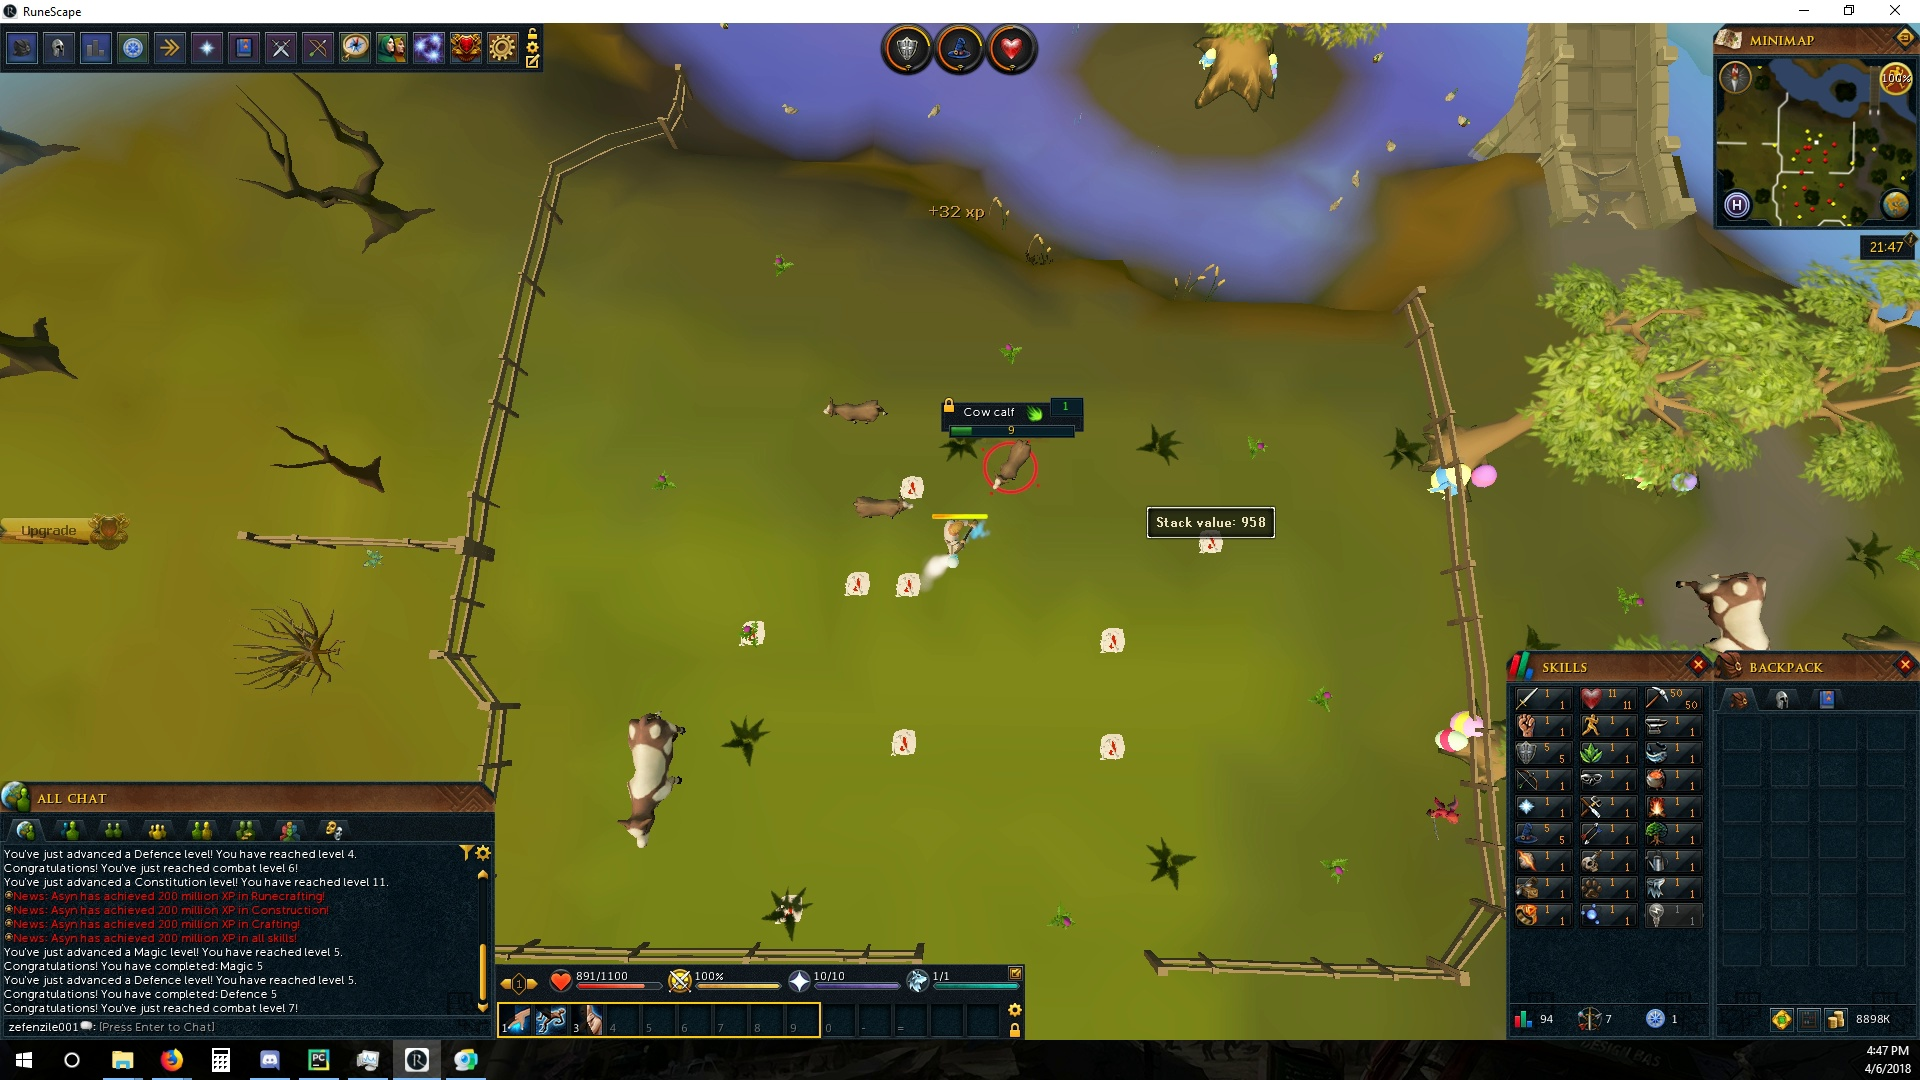calf: (982, 439, 1038, 500), (852, 491, 919, 521), (818, 396, 887, 425)
cow: (612, 711, 694, 855), (1665, 571, 1774, 653)
cow_drop: (885, 724, 923, 757), (1095, 622, 1127, 658), (837, 570, 876, 597), (735, 616, 766, 649), (1097, 729, 1126, 764), (897, 471, 927, 502), (891, 568, 920, 600), (1195, 534, 1232, 555)
